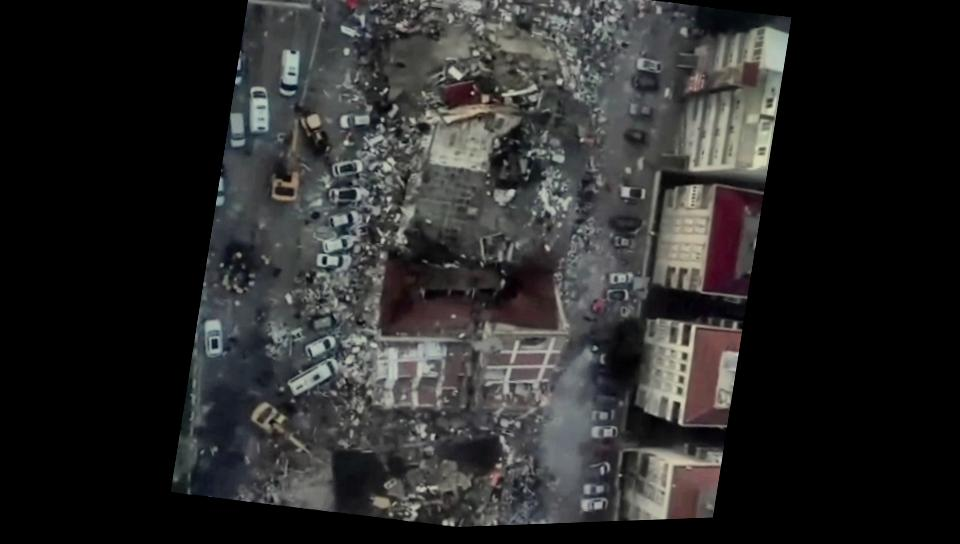kapali: (189, 392, 344, 512)
